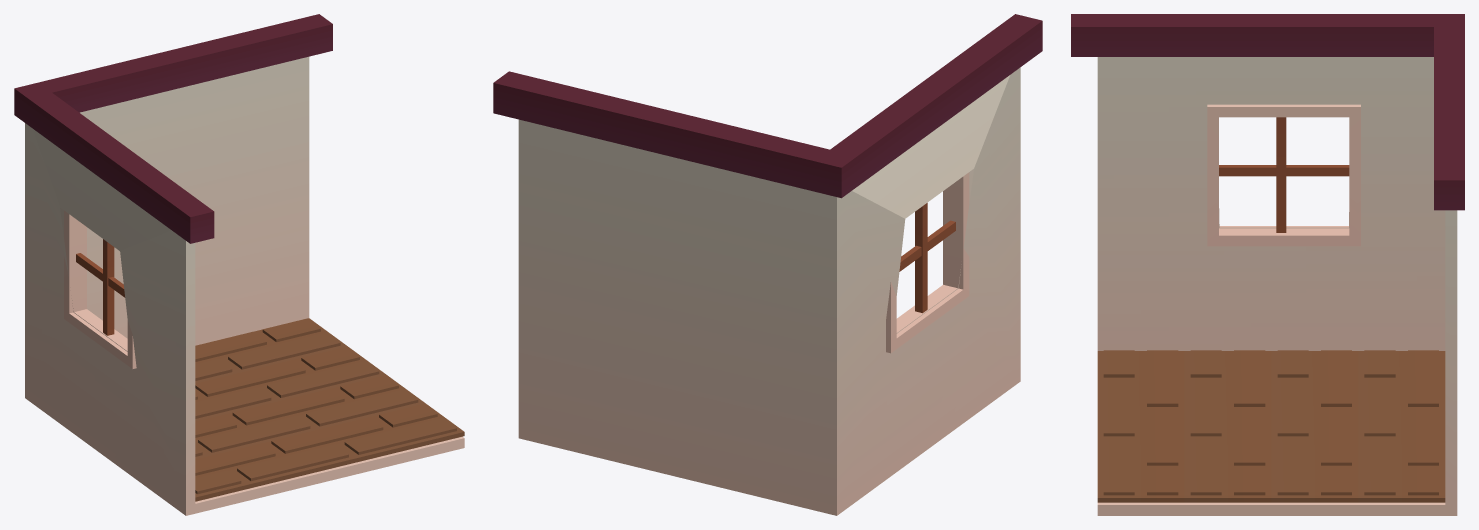
Rendered from room.glb.
3 renders of one model, left to right at view 1: azimuth 30°, elevation 25°; view 2: azimuth 150°, elevation 25°; view 3: azimuth 270°, elevation 25°, orthographic. The views are drawn at different scales.
Parts seen in each view (by area): view 1: Walls, Floor, Roof, Window; view 2: Walls, Roof, Window; view 3: Walls, Floor, Roof, Window.
Part boxes in pixels (bbox=[...]): Walls: bbox=[25, 56, 464, 515]; Floor: bbox=[195, 318, 464, 501]; Roof: bbox=[14, 14, 332, 243]; Window: bbox=[64, 210, 136, 368]; Walls: bbox=[518, 67, 1020, 515]; Roof: bbox=[493, 14, 1042, 198]; Window: bbox=[886, 172, 969, 353]; Walls: bbox=[1097, 57, 1457, 515]; Floor: bbox=[1097, 350, 1445, 502]; Roof: bbox=[1071, 14, 1464, 210]; Window: bbox=[1207, 104, 1360, 246].
Bounding box in the file's own units: 2.3 × 2.19 × 2.27.
1 material, 1 textured.
